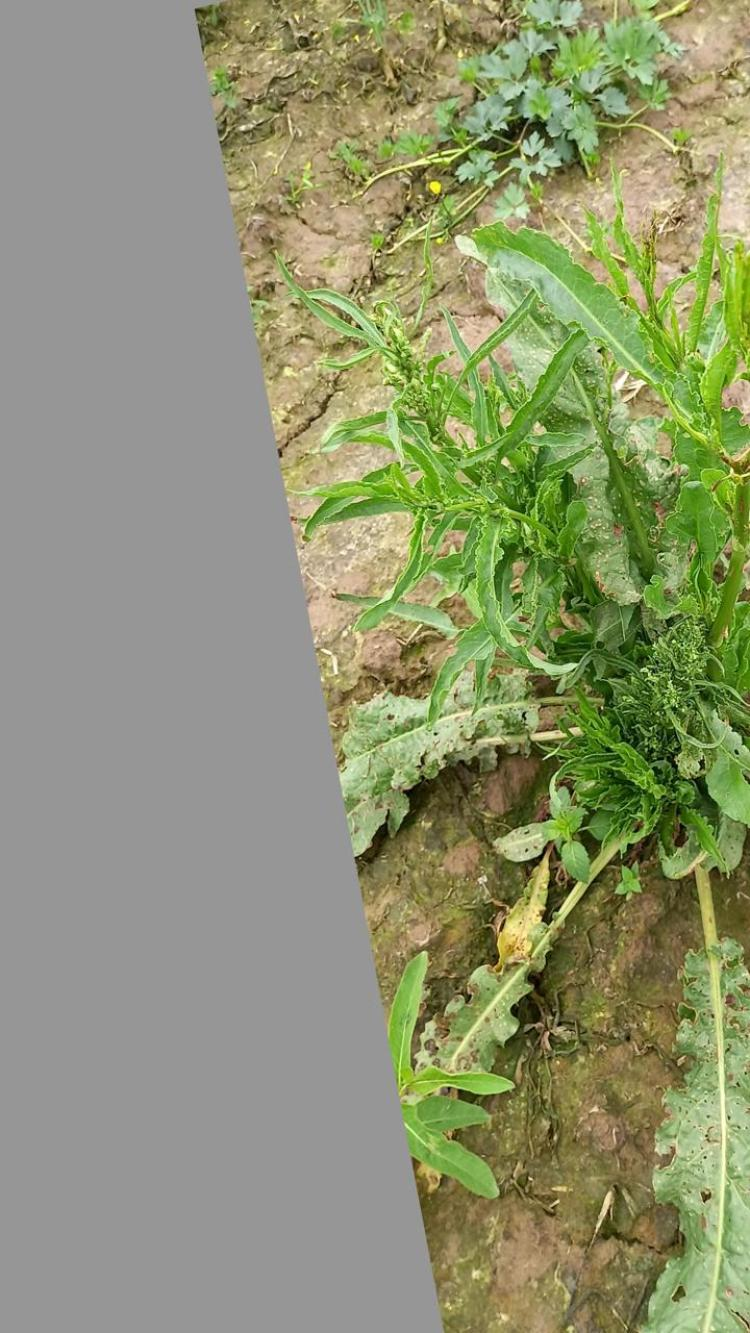zhavel: (279, 196, 750, 1333)
